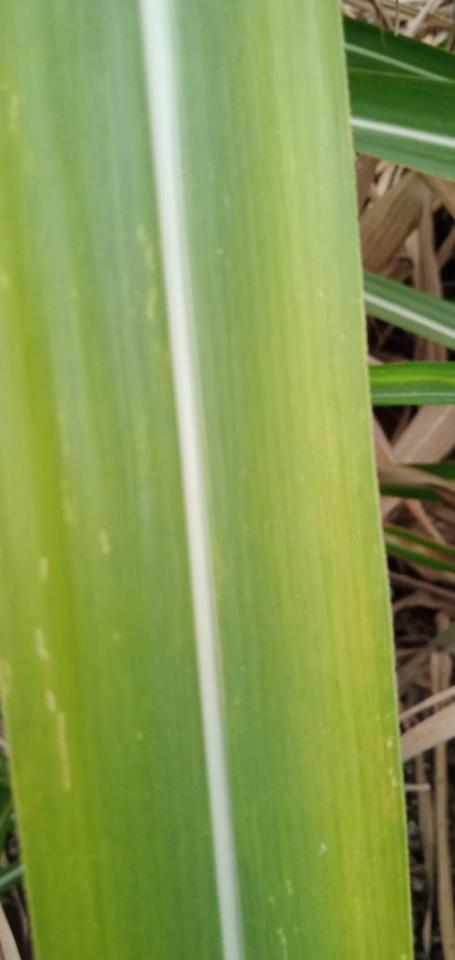Yellow: (0, 131, 132, 959), (278, 194, 415, 959)
